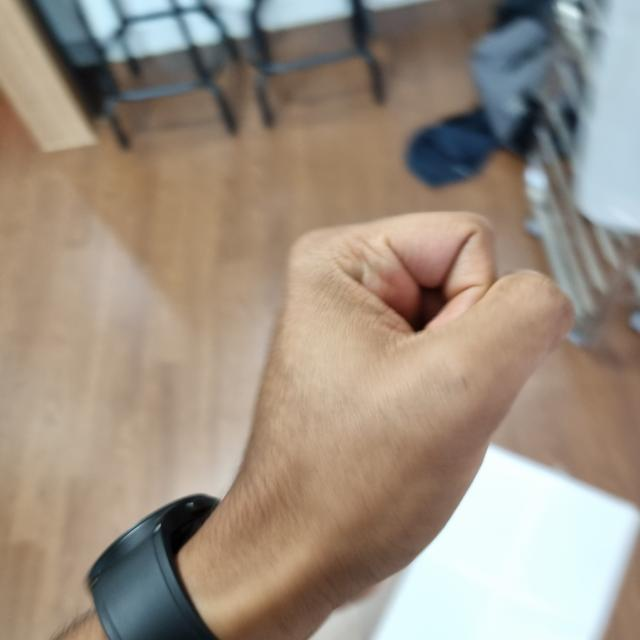Rock: (218, 202, 567, 617)
